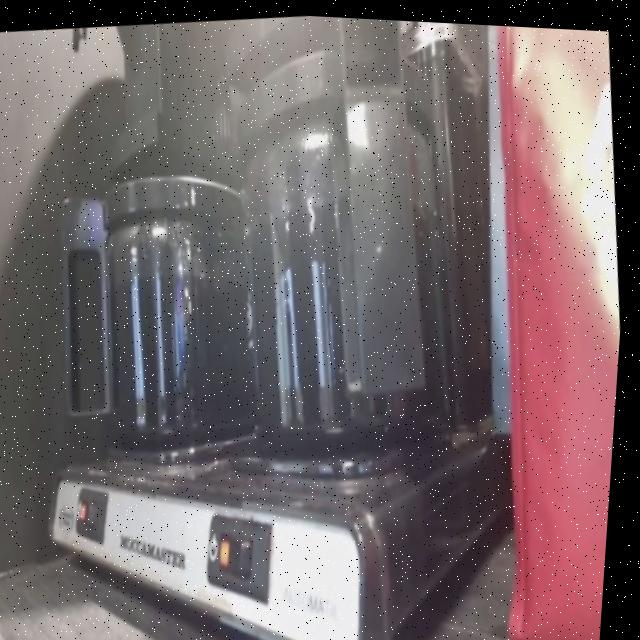coffee: (203, 36, 481, 471), (73, 140, 286, 465)
